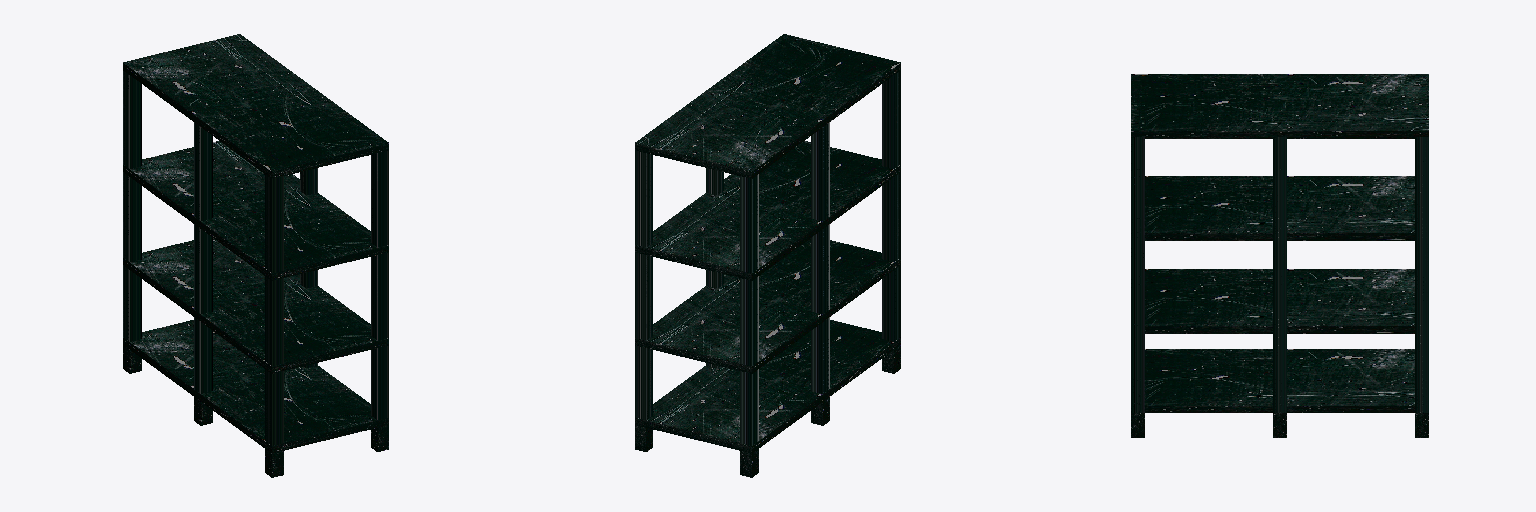
3 renders of one model, left to right at view 1: azimuth 30°, elevation 25°; view 2: azimuth 150°, elevation 25°; view 3: azimuth 270°, elevation 25°, orthographic.
Parts seen in each view (by area): view 1: Shelf:pCube16; view 2: Shelf:pCube16; view 3: Shelf:pCube16.
Boxes of the visible parts, box(x1,y1,x2,y2) form: Shelf:pCube16: box(123, 34, 388, 477); Shelf:pCube16: box(635, 34, 900, 477); Shelf:pCube16: box(1131, 74, 1428, 437).
Size of the model in its own units: 5 by 12.46 by 11.
1 materials, 1 textured.